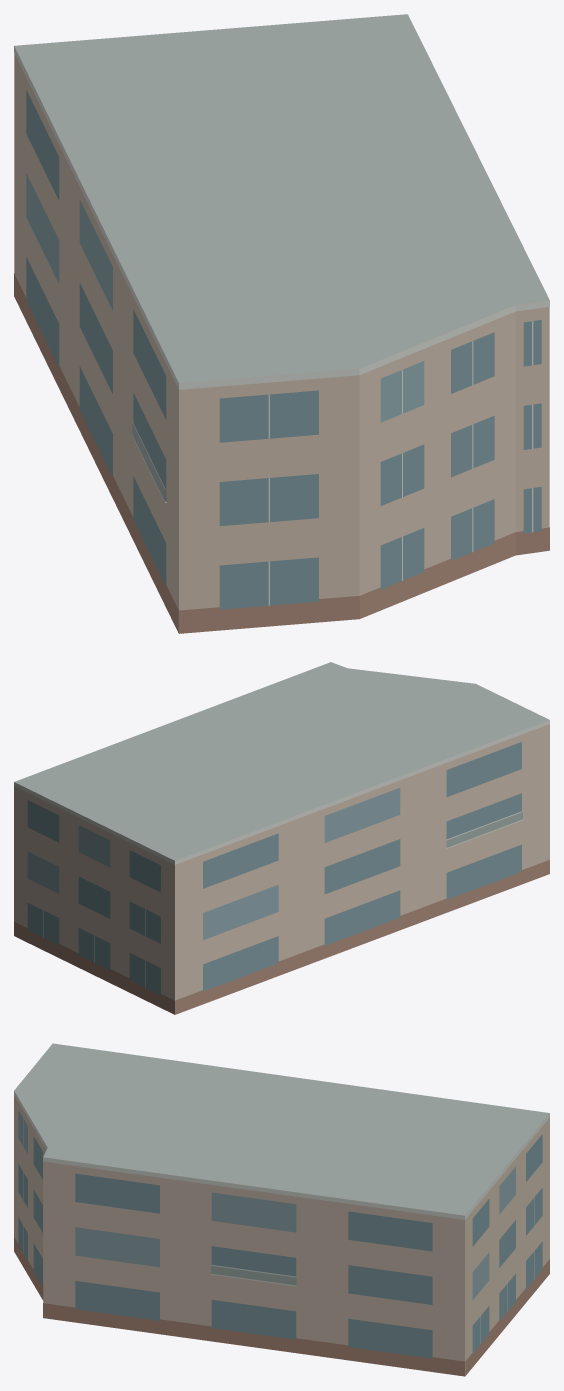
Rendered from survey-upis-32591396.glb.
The picture shows the model from 3 angles, top to bottom: view 1: azimuth 30°, elevation 25°; view 2: azimuth 150°, elevation 25°; view 3: azimuth 270°, elevation 25°; orthographic projection. The views are drawn at different scales.
Visible parts, largest first — view 1: survey-upis-32591396.tmp; view 2: survey-upis-32591396.tmp; view 3: survey-upis-32591396.tmp.
Boxes of the visible parts, bbox=[...] form: survey-upis-32591396.tmp: bbox=[14, 14, 549, 633]; survey-upis-32591396.tmp: bbox=[14, 662, 549, 1014]; survey-upis-32591396.tmp: bbox=[14, 1043, 549, 1376].
Size of the model in its own units: 21.38 by 9.3 by 28.09.
